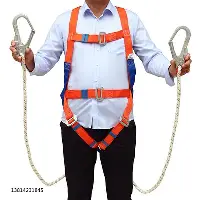safety belt: (60, 8, 142, 147)
